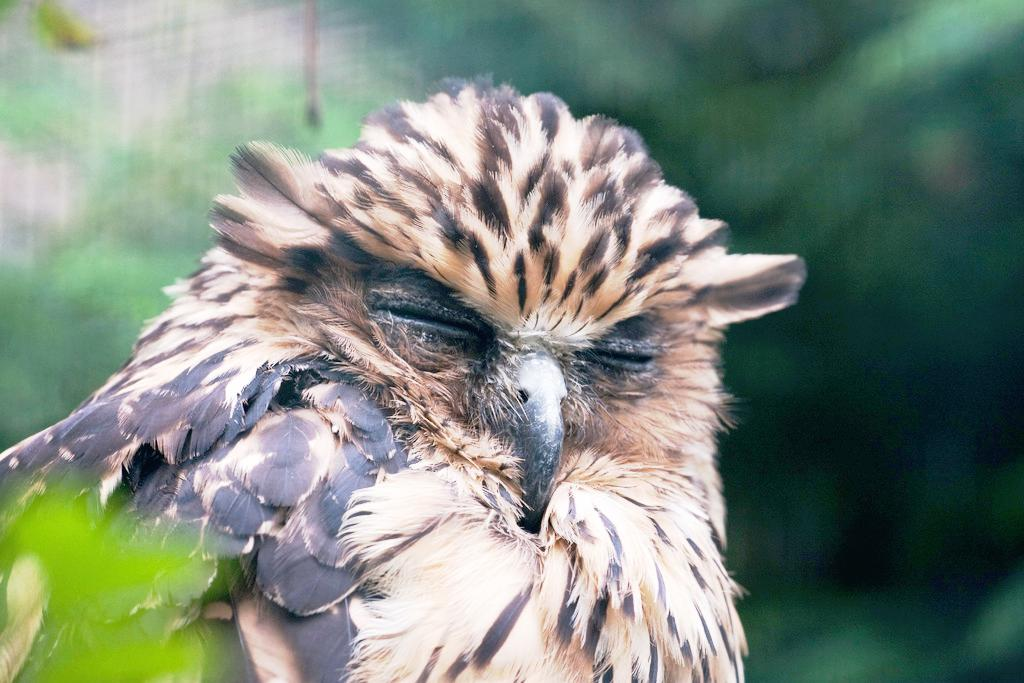Owl: (0, 73, 810, 682)
